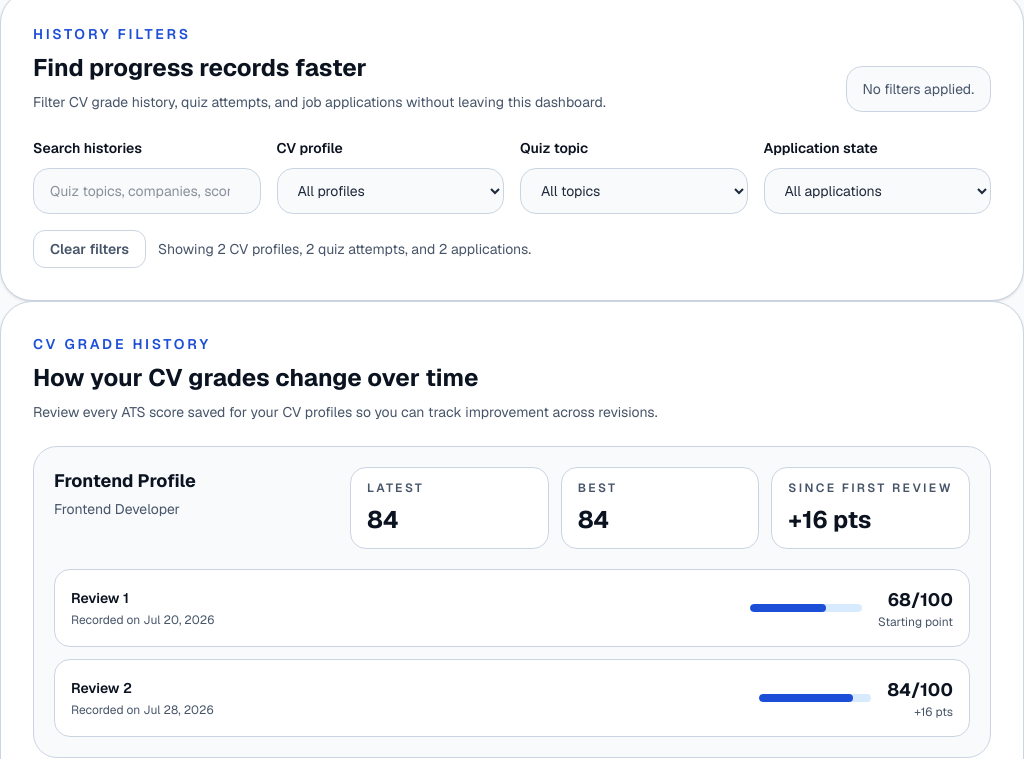
Test case: ProgressHistoryClient › shows filtered empty states when the search does not match any history
The image size is (1024, 759).
Type "cloud security" into the search field labelled "Search histories" at (147, 191), box top-left (33, 168), bottom-right (260, 214)
(page scrolled)
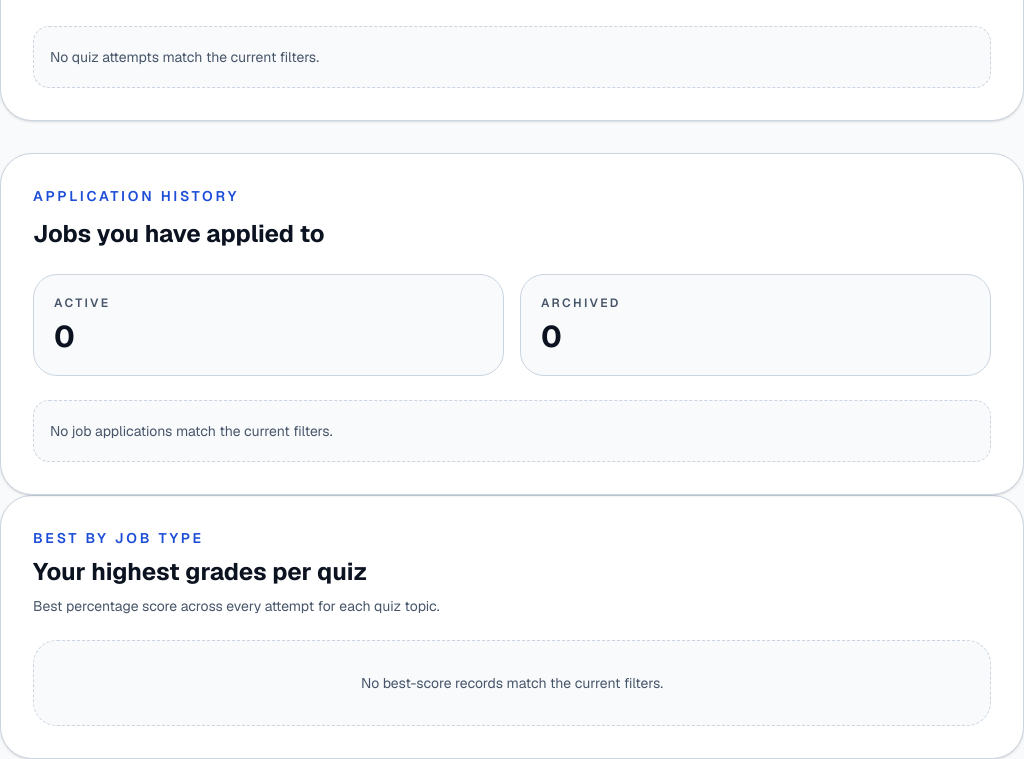
Expected: the text "No quiz attempts match the current filters." is shown, top-left (33, 26), bottom-right (991, 88)
Expected: the text "No job applications match the current filters." is shown, top-left (33, 400), bottom-right (991, 462)
Expected: the text "No best-score records match the current filters." is shown, top-left (33, 640), bottom-right (991, 726)
